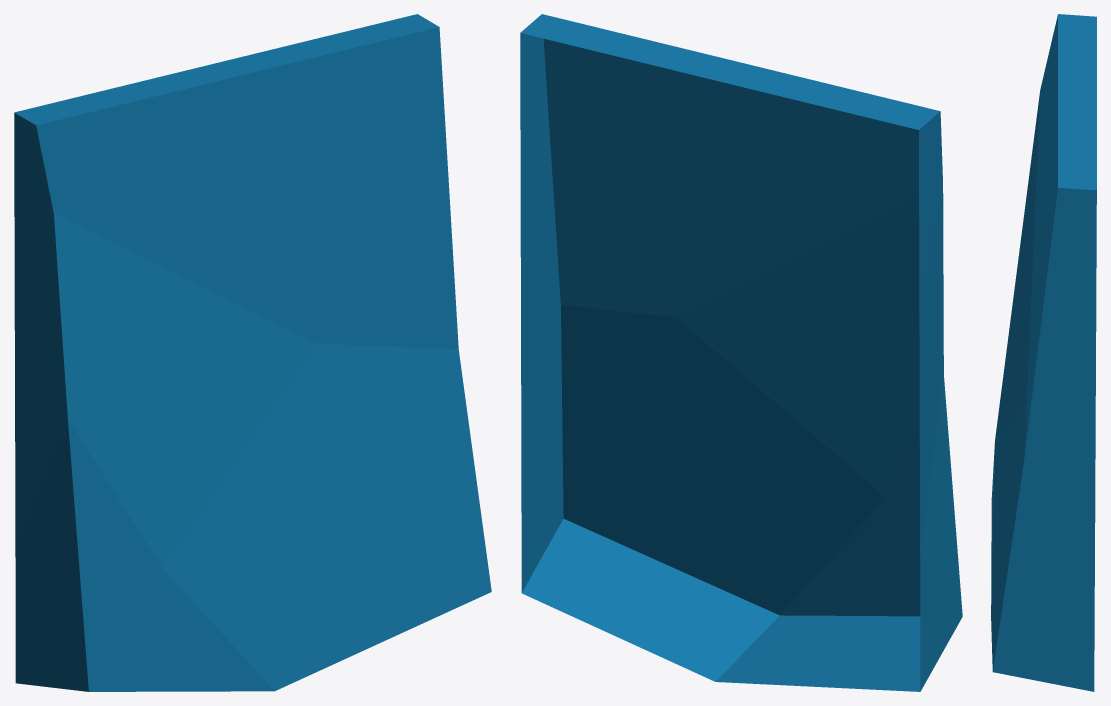
File: Teja1.fbx
3 renders of one model, left to right at view 1: azimuth 30°, elevation 25°; view 2: azimuth 150°, elevation 25°; view 3: azimuth 270°, elevation 25°, orthographic. The views are drawn at different scales.
Visible parts, largest first — view 1: Teja1_LOD0; view 2: Teja1_LOD0; view 3: Teja1_LOD0.
Boxes of the visible parts, bbox=[...] form: Teja1_LOD0: bbox=[14, 14, 491, 691]; Teja1_LOD0: bbox=[520, 14, 962, 691]; Teja1_LOD0: bbox=[991, 14, 1096, 691].
Size of what is drawn, in the model's own units: 15.23 by 85.93 by 61.38.
